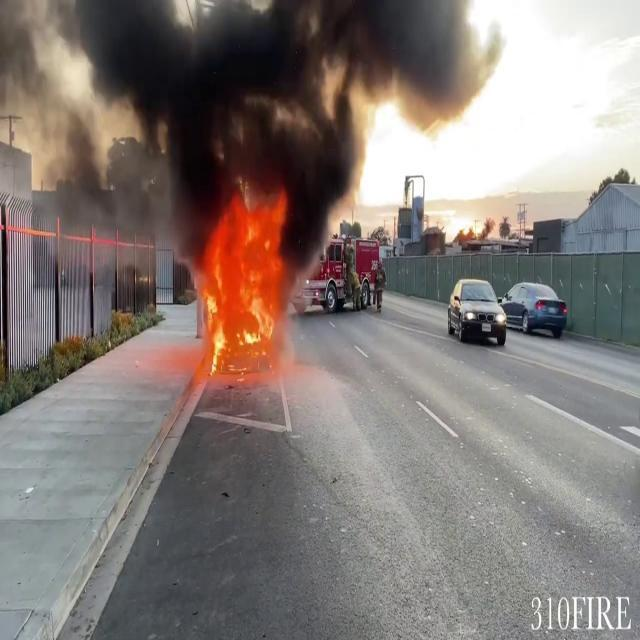Fire: (196, 187, 290, 366)
Smoke: (67, 0, 477, 232), (0, 2, 150, 242)
